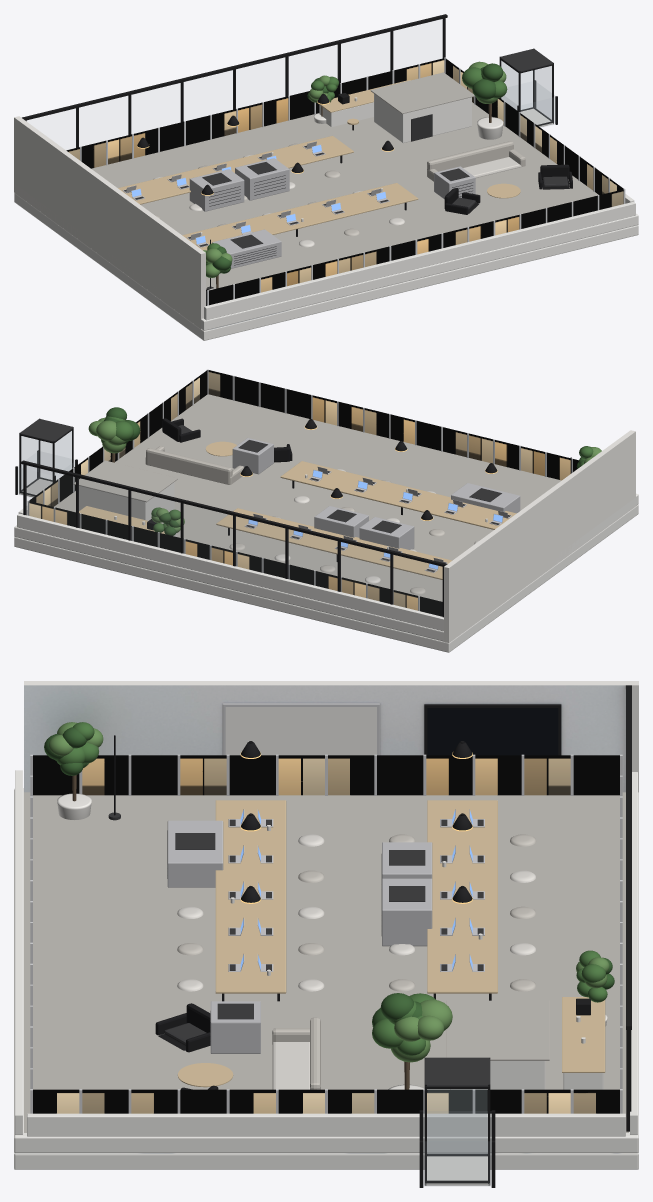
File: office.glb
The picture shows the model from 3 angles, top to bottom: view 1: azimuth 30°, elevation 25°; view 2: azimuth 150°, elevation 25°; view 3: azimuth 270°, elevation 25°; orthographic projection. The views are drawn at different scales.
Visible parts, largest first — view 1: roof_slab, facade_glass, wall_left_core, glass_back, roof_equipment, slab_closed, table_2, curtain_wall, table_1, slab_open, sofa, tree_1 (+12 smaller); view 2: roof_slab, glass_back, facade_glass, wall_left_core, roof_equipment, slab_closed, table_2, curtain_wall, table_1, slab_open, facade_mullions, sofa (+11 smaller); view 3: roof_slab, facade_glass, baked_wall_left, roof_equipment, table_2, table_1, slab_closed, task_board, wall_screen, cabin_glass_px, facade_mullions, cabin_frame (+15 smaller).
Part boxes in pixels (<box>): roof_slab: <box>14,102,638,330</box>; facade_glass: <box>66,58,623,305</box>; wall_left_core: <box>14,116,205,328</box>; glass_back: <box>27,19,442,149</box>; roof_equipment: <box>189,72,475,290</box>; slab_closed: <box>14,193,638,340</box>; table_2: <box>182,183,418,250</box>; curtain_wall: <box>22,14,447,147</box>; table_1: <box>118,136,353,204</box>; slab_open: <box>14,194,638,340</box>; sofa: <box>427,141,525,181</box>; tree_1: <box>462,61,507,139</box>; roof_slab: <box>14,394,638,641</box>; glass_back: <box>26,466,441,615</box>; facade_glass: <box>29,370,578,616</box>; wall_left_core: <box>444,430,635,642</box>; roof_equipment: <box>73,438,571,549</box>; slab_closed: <box>14,504,638,652</box>; table_2: <box>280,461,516,529</box>; curtain_wall: <box>21,460,447,617</box>; table_1: <box>216,508,452,579</box>; slab_open: <box>14,506,638,651</box>; facade_mullions: <box>27,369,572,610</box>; sofa: <box>145,446,244,484</box>; roof_slab: <box>14,770,638,1153</box>; facade_glass: <box>33,755,619,1113</box>; baked_wall_left: <box>24,685,625,792</box>; roof_equipment: <box>108,735,549,1089</box>; table_2: <box>215,800,286,1001</box>; table_1: <box>427,800,497,1000</box>; slab_closed: <box>14,1153,638,1169</box>; task_board: <box>225,707,376,755</box>; wall_screen: <box>427,708,558,755</box>; cabin_glass_px: <box>428,1090,486,1179</box>; facade_mullions: <box>30,754,622,1113</box>; cabin_frame: <box>424,1057,490,1185</box>.
Bounding box in the file's own units: 18 × 3.32 × 12.4.
Materials: 29 (4 with a texture image).
